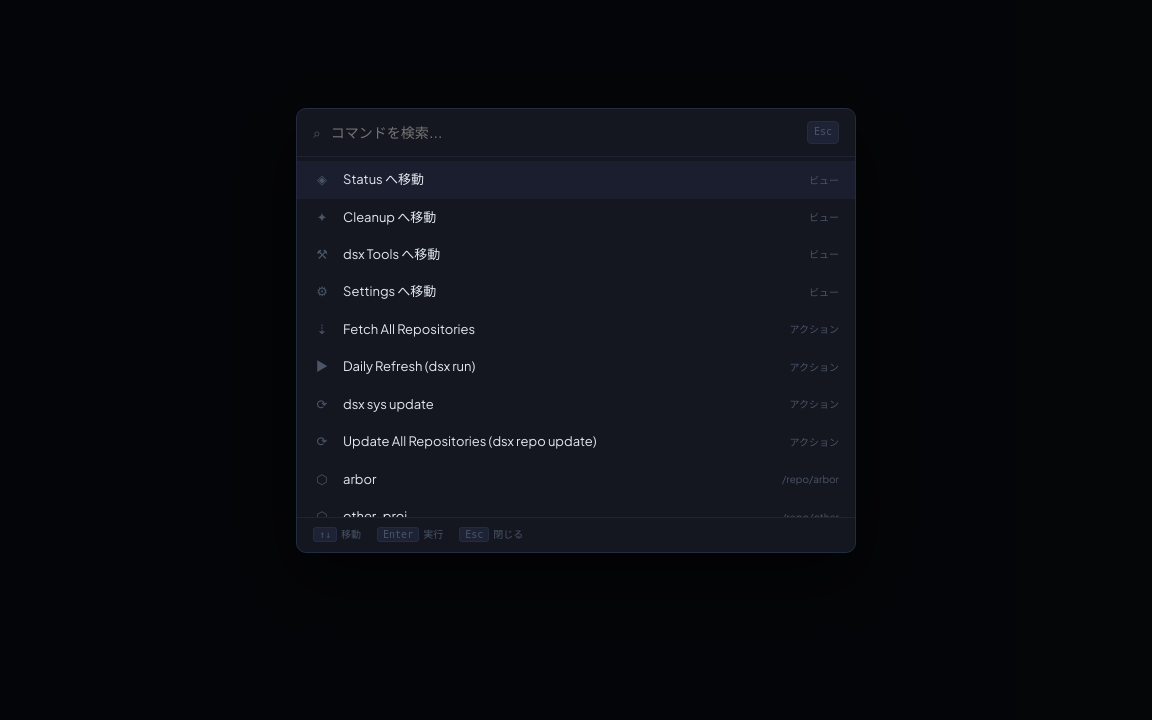
Test: CommandPalette — フィルタリング › リポジトリ名でフィルタできる
Type "arbor" into the dropdown at coordinates (569, 132), box [331,124,807,140]
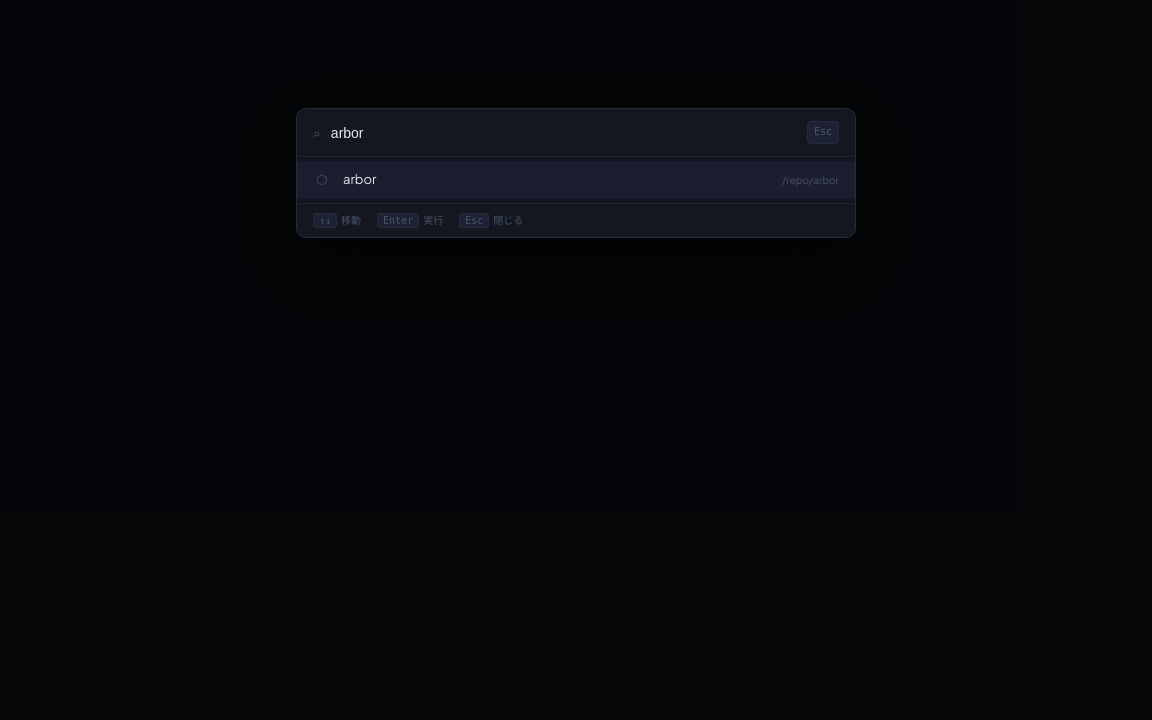
Expected: the text "arbor" is shown, [343,171,376,187]
Now the option "other-proj" is gone
